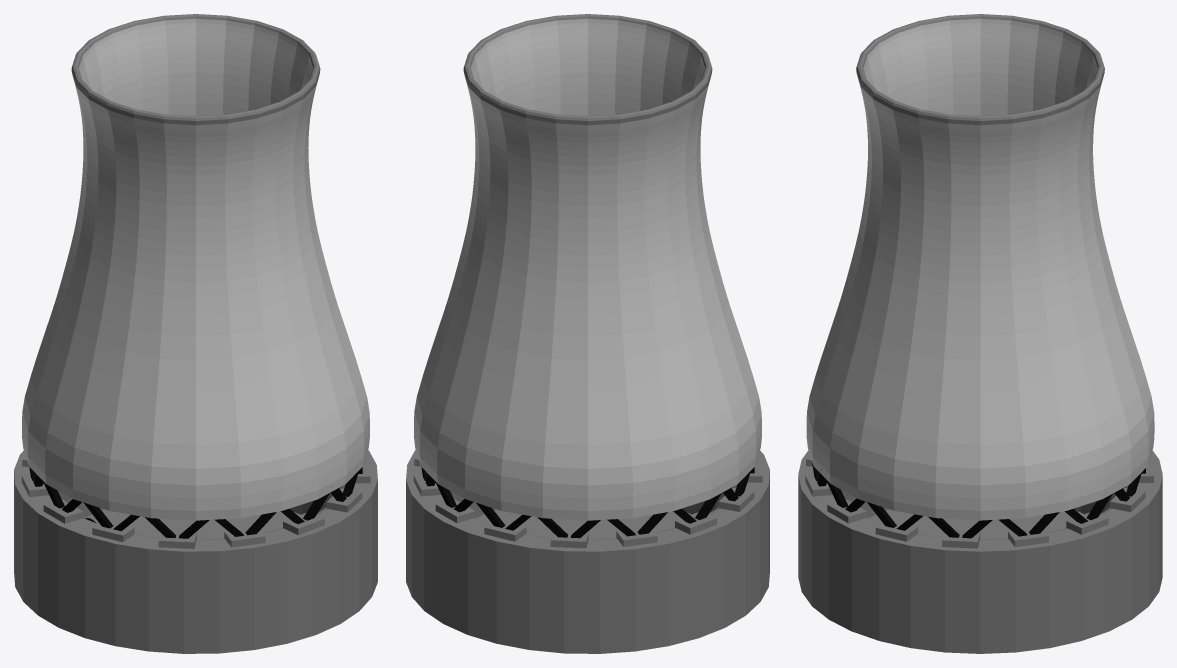
Rendered from CollingTower.fbx.
The picture shows the model from 3 angles, left to right: view 1: azimuth 30°, elevation 25°; view 2: azimuth 150°, elevation 25°; view 3: azimuth 270°, elevation 25°; orthographic projection.
Visible parts, largest first — view 1: CoolingTower; view 2: CoolingTower; view 3: CoolingTower.
Boxes of the visible parts, box(x1,y1,x2,y2) form: CoolingTower: box(14, 14, 377, 653); CoolingTower: box(406, 14, 769, 653); CoolingTower: box(798, 14, 1162, 653).
Bounding box in the file's own units: 8074 × 12495 × 8074.
